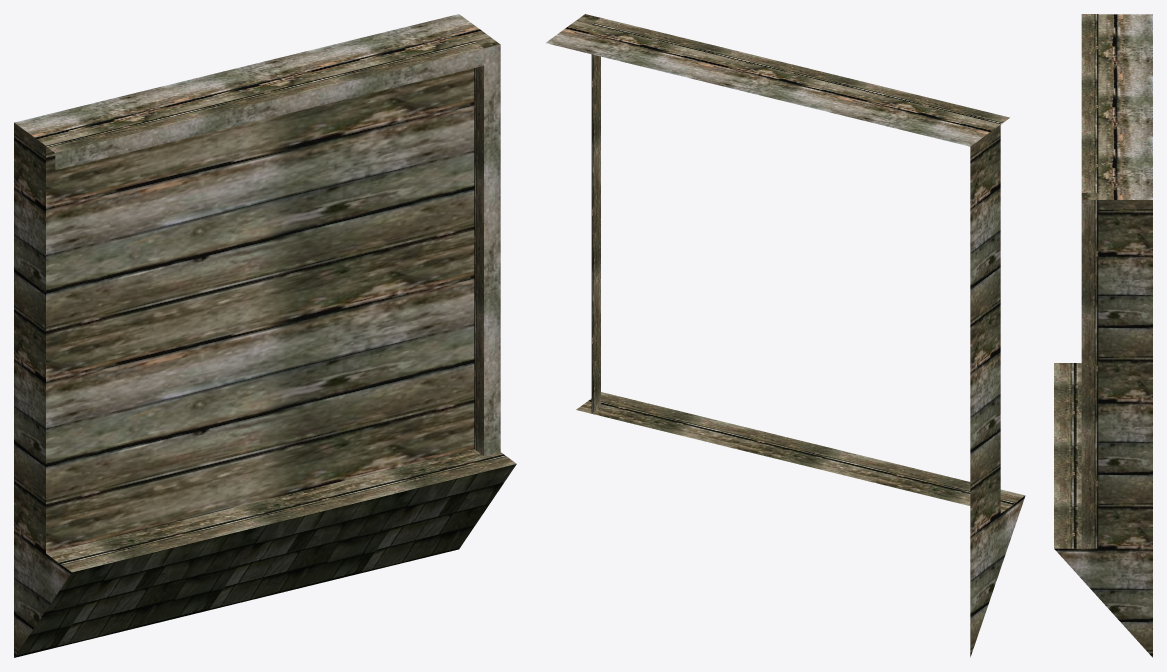
File: HouseWall06.glb
The picture shows the model from 3 angles, left to right: view 1: azimuth 30°, elevation 25°; view 2: azimuth 150°, elevation 25°; view 3: azimuth 270°, elevation 25°; orthographic projection. The views are drawn at different scales.
Parts seen in each view (by area): view 1: model_HouseWall06; view 2: model_HouseWall06; view 3: model_HouseWall06.
Part boxes in pixels (bbox=[...]): model_HouseWall06: bbox=[14, 14, 516, 657]; model_HouseWall06: bbox=[546, 14, 1025, 657]; model_HouseWall06: bbox=[1054, 14, 1152, 657].
Bounding box in the file's own units: 4 × 4.6 × 0.9004.
Materials: 2 (2 with a texture image).
